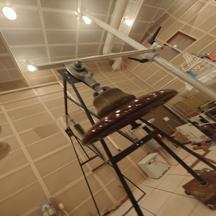insulator: (76, 80, 180, 147)
